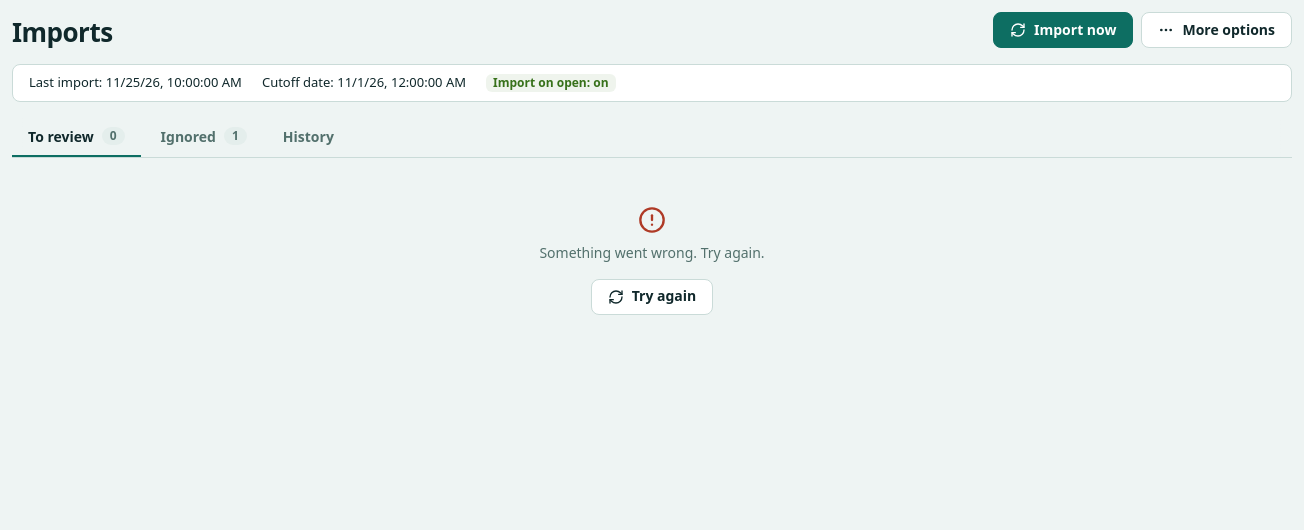
Test: página Importações › erro ao carregar as pendências: mensagem e "Tentar de novo"
Click the button "Try again". click: (652, 296)
box: [591,278,713,314]
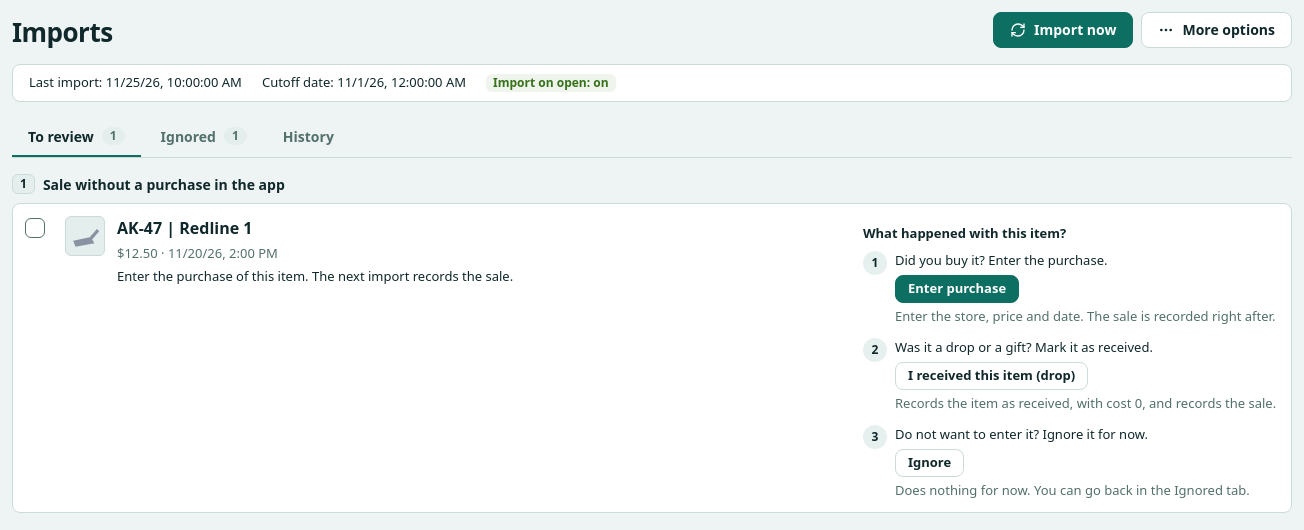
Now the text "AK-47 | Redline 1" is shown, box [117,216,252,238]
